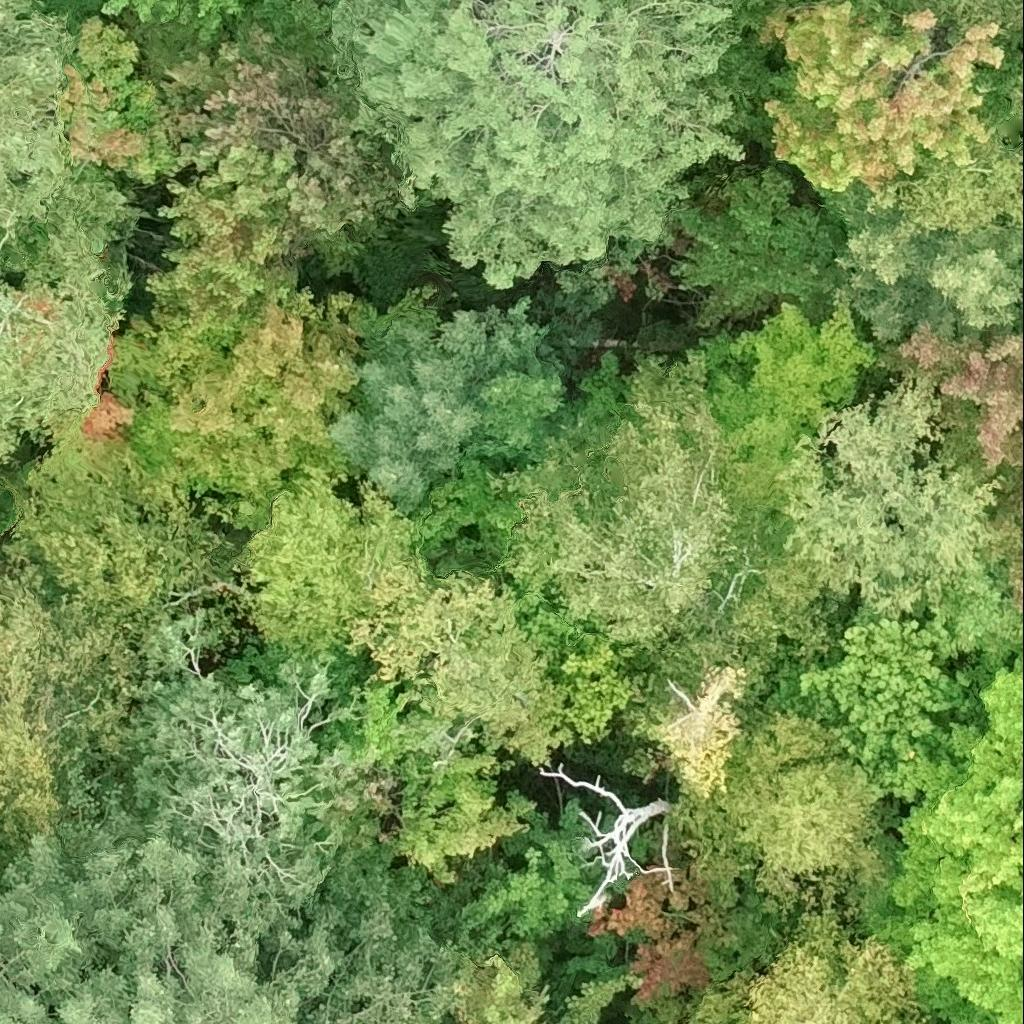crown: (333, 0, 745, 288), (511, 353, 828, 686), (60, 611, 374, 916), (4, 448, 252, 820), (2, 826, 468, 1023), (95, 293, 368, 535), (855, 634, 1023, 1023), (779, 373, 995, 623), (758, 0, 1009, 201), (333, 295, 563, 513), (335, 560, 567, 767), (318, 676, 533, 883), (677, 717, 885, 899), (141, 0, 354, 172), (239, 463, 422, 655), (0, 0, 140, 249), (143, 138, 317, 337), (0, 216, 130, 466), (0, 579, 105, 880), (796, 619, 962, 798), (707, 288, 869, 470), (668, 168, 851, 327), (685, 906, 933, 1023), (586, 826, 739, 998), (287, 110, 405, 273), (901, 325, 1023, 469), (865, 133, 1023, 231), (649, 666, 758, 795), (582, 801, 676, 913), (28, 388, 144, 478), (867, 0, 1023, 57), (0, 863, 53, 1023), (99, 0, 292, 39), (978, 463, 1023, 609), (460, 954, 551, 1023), (562, 969, 644, 1023), (999, 422, 1023, 469), (1005, 64, 1023, 118)
